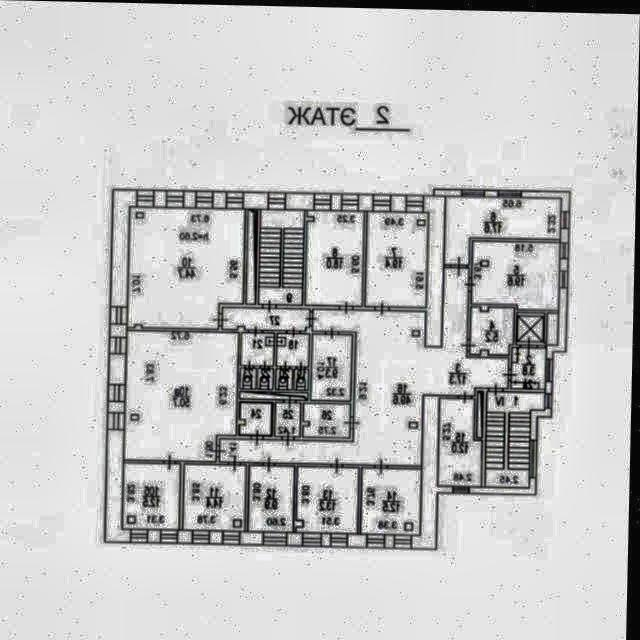room: (181, 243, 536, 538), (126, 328, 240, 461), (129, 207, 245, 328), (446, 194, 562, 263), (473, 239, 561, 307), (367, 209, 429, 305), (487, 389, 546, 485), (307, 208, 365, 304), (260, 209, 304, 302), (299, 466, 361, 532), (186, 464, 247, 529), (364, 466, 423, 532), (441, 396, 484, 484), (126, 462, 182, 528), (251, 463, 296, 530), (314, 333, 353, 398), (472, 304, 515, 352), (224, 306, 311, 329), (305, 402, 352, 436), (513, 345, 547, 386), (279, 332, 311, 365), (243, 332, 275, 364), (242, 401, 273, 434), (278, 401, 302, 434), (519, 311, 546, 340), (278, 368, 294, 388), (259, 368, 275, 388), (242, 367, 257, 387), (297, 367, 310, 388), (514, 380, 540, 386), (514, 345, 518, 359)
